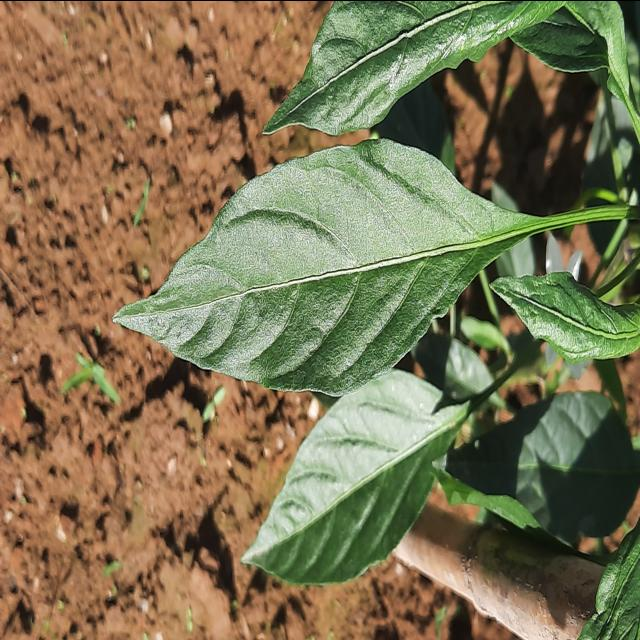sehat: (110, 134, 516, 398), (232, 364, 461, 634)
